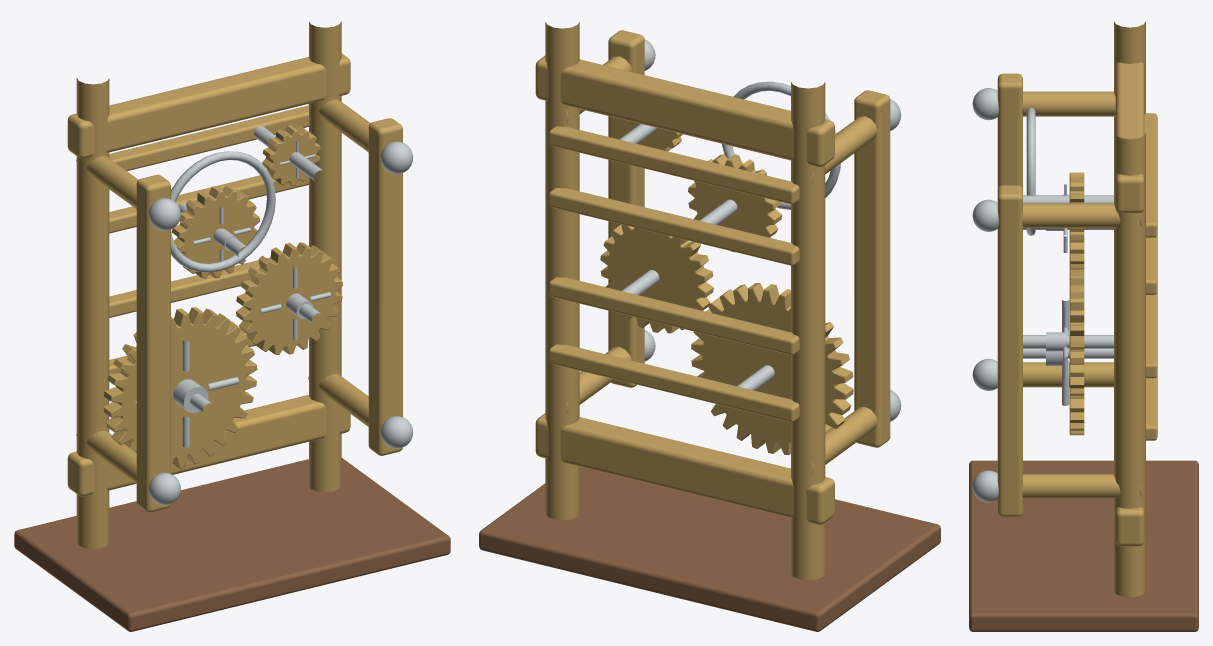
Rendered from clockmaker-and-watch-repair-exposed-clock-movement-cfa317d3__30637.glb.
The picture shows the model from 3 angles, left to right: view 1: azimuth 30°, elevation 25°; view 2: azimuth 150°, elevation 25°; view 3: azimuth 270°, elevation 25°; orthographic projection. The views are drawn at different scales.
Parts seen in each view (by area): view 1: exposed-clock-movement; view 2: exposed-clock-movement; view 3: exposed-clock-movement.
Boxes of the visible parts, bbox=[...] form: exposed-clock-movement: bbox=[14, 21, 450, 631]; exposed-clock-movement: bbox=[479, 22, 940, 631]; exposed-clock-movement: bbox=[969, 21, 1198, 631].
Bounding box in the file's own units: 0.32 × 0.46 × 0.2.
